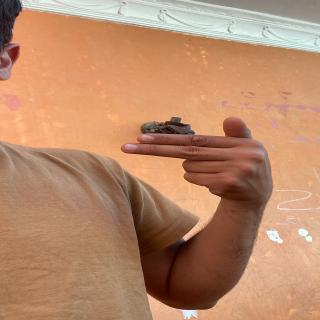GHAYN: (114, 115, 313, 205)
